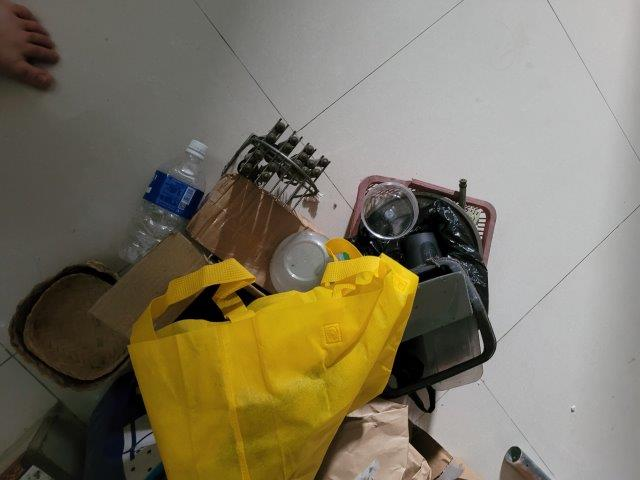botolplastik: (119, 144, 207, 266)
